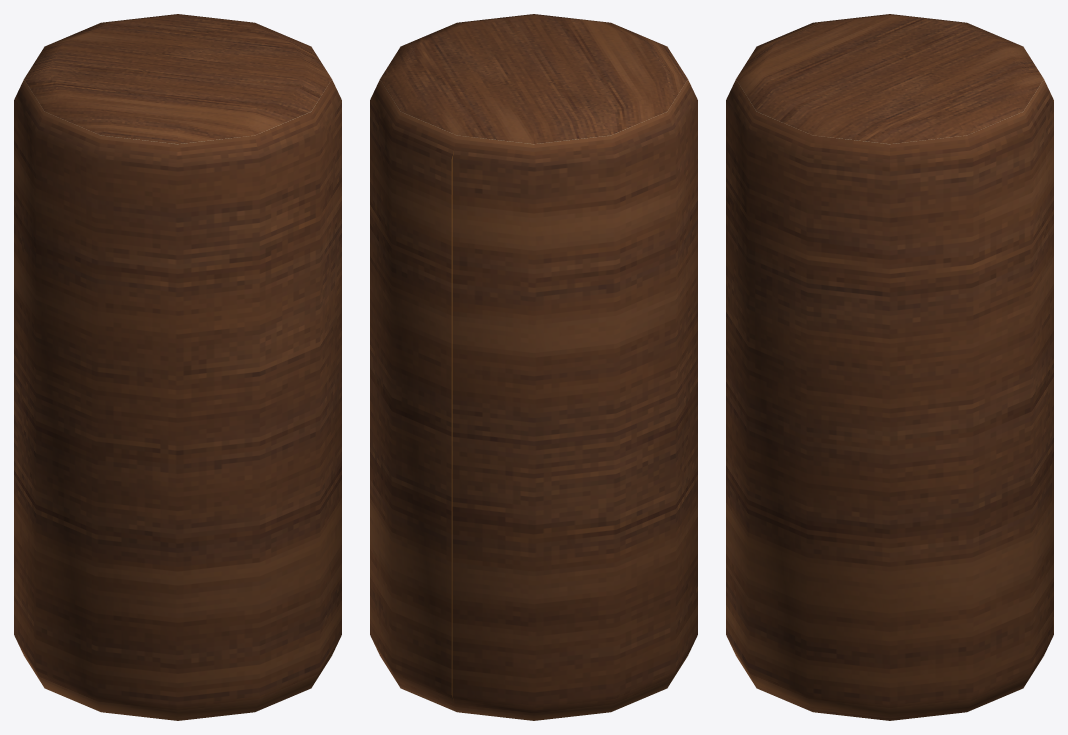
The model's file is CylinderB.fbx.
3 renders of one model, left to right at view 1: azimuth 30°, elevation 25°; view 2: azimuth 150°, elevation 25°; view 3: azimuth 270°, elevation 25°, orthographic.
Parts seen in each view (by area): view 1: CylinderB; view 2: CylinderB; view 3: CylinderB.
Boxes of the visible parts, x1,y1,x2,y2 form: CylinderB: [14, 14, 341, 720]; CylinderB: [370, 14, 697, 720]; CylinderB: [726, 14, 1053, 720].
Bounding box in the file's own units: 1 × 1 × 2.
Materials: 1 (1 with a texture image).
